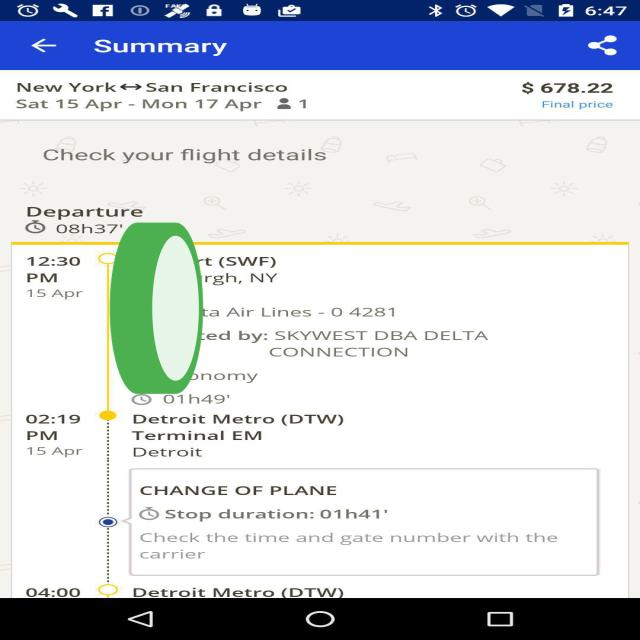social proof: (106, 157, 208, 473)
